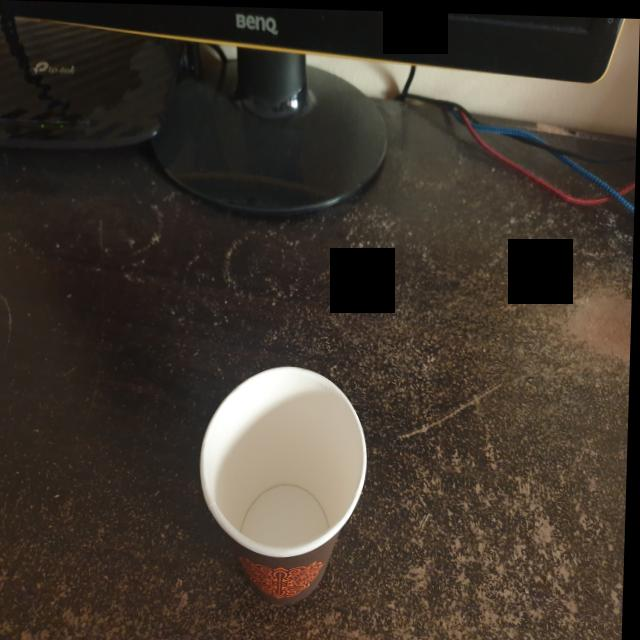cups: (197, 355, 376, 615)
